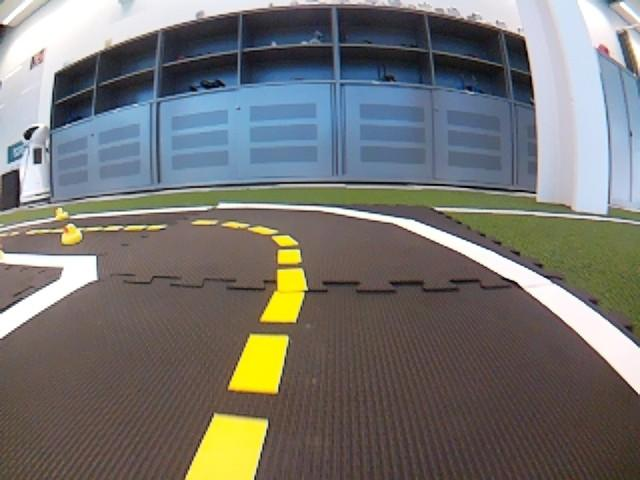Duckies: (62, 223, 82, 245), (55, 207, 68, 219)
